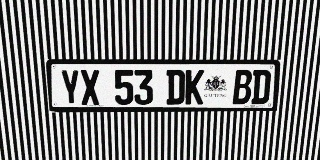3: (134, 70, 153, 105)
5: (114, 70, 134, 105)
B: (232, 70, 253, 104)
D: (251, 70, 271, 104), (166, 70, 185, 105)
K: (185, 70, 204, 104)
X: (80, 70, 100, 105)
Y: (60, 70, 81, 105)
